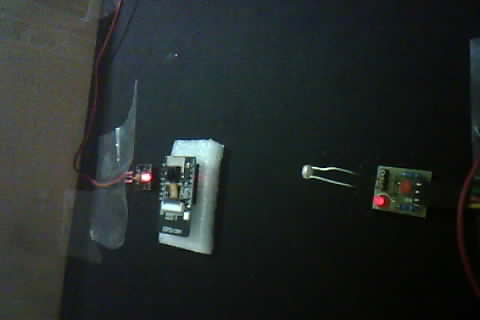esp32: (156, 140, 221, 254)
